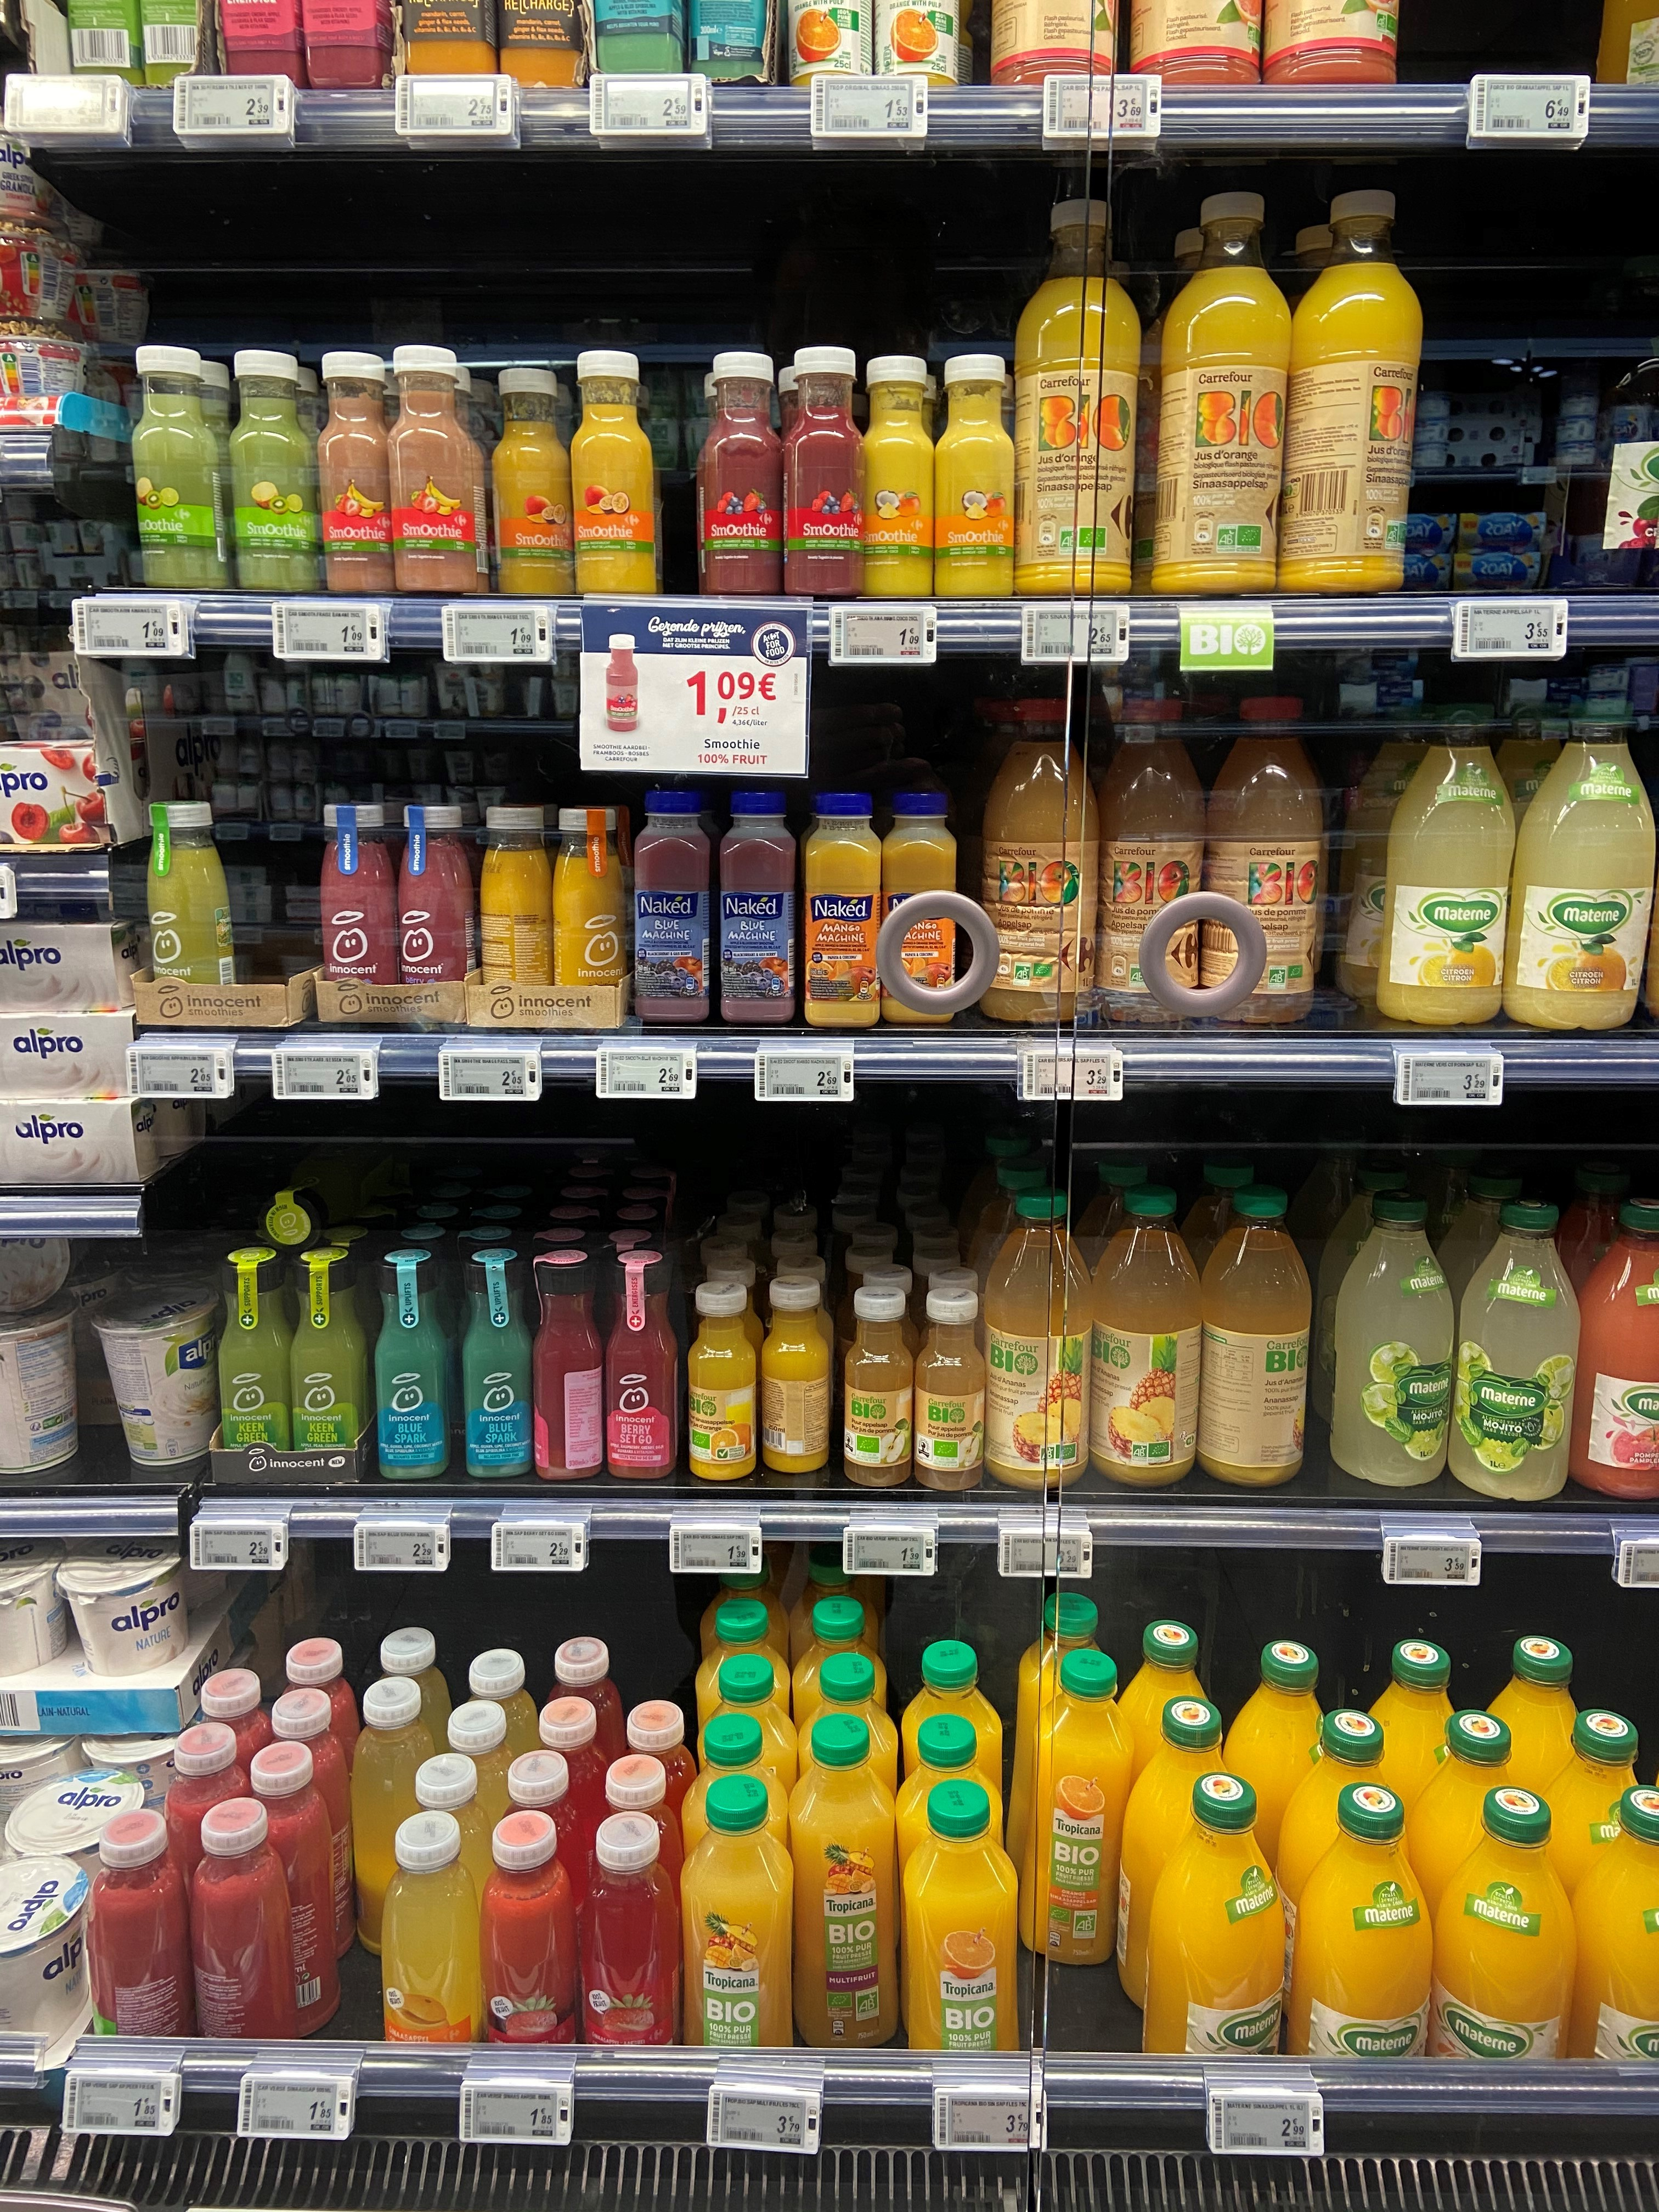AlproKersKlein: (0, 738, 146, 852)
AlproNatureGroot: (54, 1540, 197, 1703), (0, 1851, 87, 2064), (0, 1540, 64, 1705)
AlproNatureHaverGroot: (92, 1285, 218, 1470), (0, 1299, 80, 1479)
AlproNatureKlein: (2, 1099, 183, 1190), (0, 909, 145, 1012), (0, 1012, 146, 1099)
CarrefourBioAnanassap: (1201, 1183, 1312, 1489), (1089, 1181, 1199, 1487), (986, 1186, 1091, 1489)
CarrefourBioAppelsap1L: (1208, 702, 1326, 1029), (1094, 695, 1209, 1026), (981, 700, 1098, 1022)
CarrefourBioAppelsap25cl: (840, 1285, 915, 1487), (917, 1289, 986, 1493)
CarrefourBioSinaasappelsap1L: (1276, 190, 1425, 594), (1154, 192, 1290, 594), (1014, 199, 1143, 599)
CarrefourBioSinaasappelsap25cl: (685, 1280, 758, 1482), (762, 1277, 833, 1474)
CarrefourSmoothieAardbeiBanaan: (387, 345, 488, 597), (317, 352, 396, 596)
CarrefourSmoothieAardbeiBlauweBessen: (784, 347, 866, 603), (701, 354, 786, 594)
CarrefourSmoothieAardbeiSinaasappel: (188, 1797, 295, 2057), (579, 1811, 678, 2073), (89, 1810, 188, 2067), (479, 1810, 577, 2071)
CarrefourSmoothieKiwiLimoen: (129, 347, 230, 592), (228, 348, 317, 592)
CarrefourSmoothieKokosMango: (936, 355, 1018, 597), (861, 355, 936, 604)
CarrefourSmoothieMangoPassievrucht: (570, 352, 657, 594), (488, 366, 573, 597)
CarrefourVersSinaasappel: (376, 1810, 483, 2062)
InnocentBerryGood: (396, 805, 479, 1012), (317, 805, 394, 1014)
InnocentBerrySetGo: (605, 1251, 683, 1482)
InnocentBlueSpark: (368, 1249, 455, 1480), (455, 1249, 533, 1480)
InnocentKeenGreen: (289, 1247, 369, 1475), (214, 1247, 291, 1475)
InnocentKiwiWonder: (146, 803, 237, 1001)
InnocentMagnificentMango: (477, 805, 551, 1019), (554, 810, 624, 1021)
MaterneCitroen: (1506, 697, 1659, 1031), (1375, 707, 1518, 1026)
MaterneMojito: (1457, 1195, 1579, 1500), (1330, 1190, 1453, 1487)
MaternePompelmoes: (1577, 1197, 1659, 1500)
MaterneSinaasappel1L: (1429, 1785, 1579, 2120), (1290, 1777, 1434, 2101), (1138, 1770, 1288, 2081), (1568, 1787, 1659, 2073)
NakedBlueMachine: (631, 791, 714, 1026), (716, 789, 798, 1022)
NakedMangoMachine: (800, 786, 884, 1033), (882, 787, 960, 1028)
TropicanaBioMultifruit: (788, 1716, 897, 2050), (678, 1775, 795, 2073)
TropicanaBioOrange: (1021, 1649, 1138, 1970), (901, 1778, 1021, 2064)
__UNKNOWN: (532, 1251, 606, 1482)
__WRONG: (500, 2, 587, 85), (399, 2, 491, 80)
